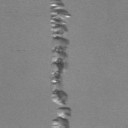slag inclusion: (52, 36, 69, 86), (51, 15, 68, 34), (52, 90, 68, 104), (50, 6, 70, 16), (52, 117, 70, 128), (58, 107, 72, 116), (54, 0, 64, 6)
